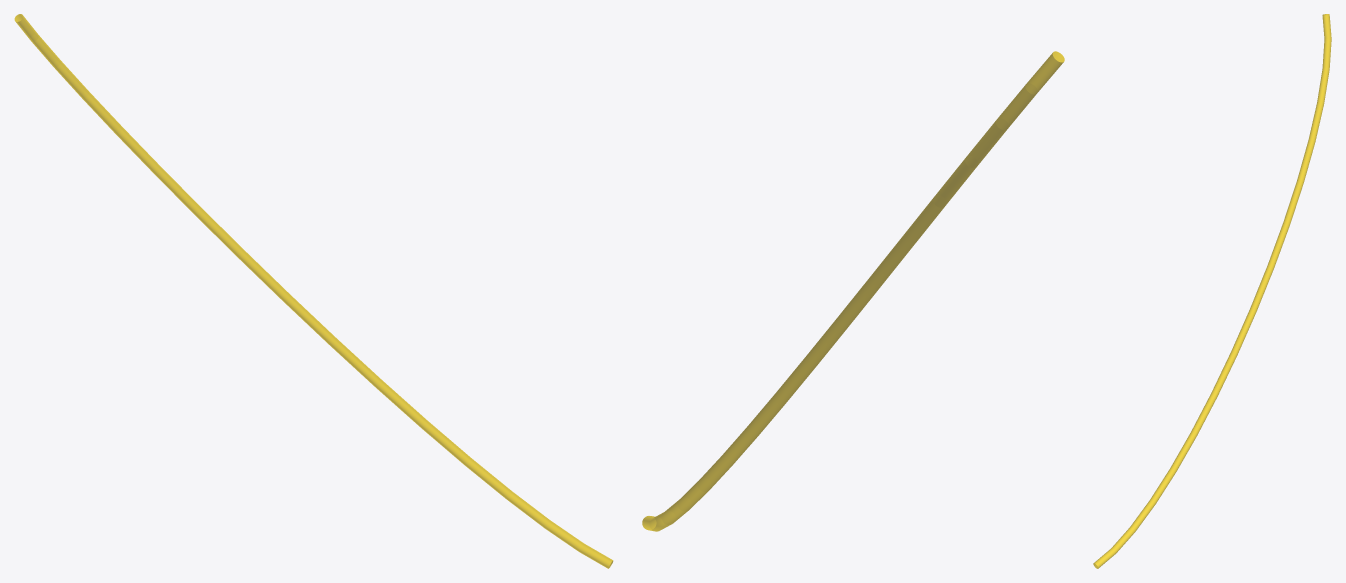
Rendered from Event_27938768_track_17.fbx.
The picture shows the model from 3 angles, left to right: view 1: azimuth 30°, elevation 25°; view 2: azimuth 150°, elevation 25°; view 3: azimuth 270°, elevation 25°; orthographic projection. The views are drawn at different scales.
Parts seen in each view (by area): view 1: Model; view 2: Model; view 3: Model.
Part boxes in pixels (x1,y1,x2,y2): Model: (14,14,613,568); Model: (642,51,1064,531); Model: (1093,14,1331,568).
Size of the model in its own units: 2.06 by 2.43 by 1.31.
